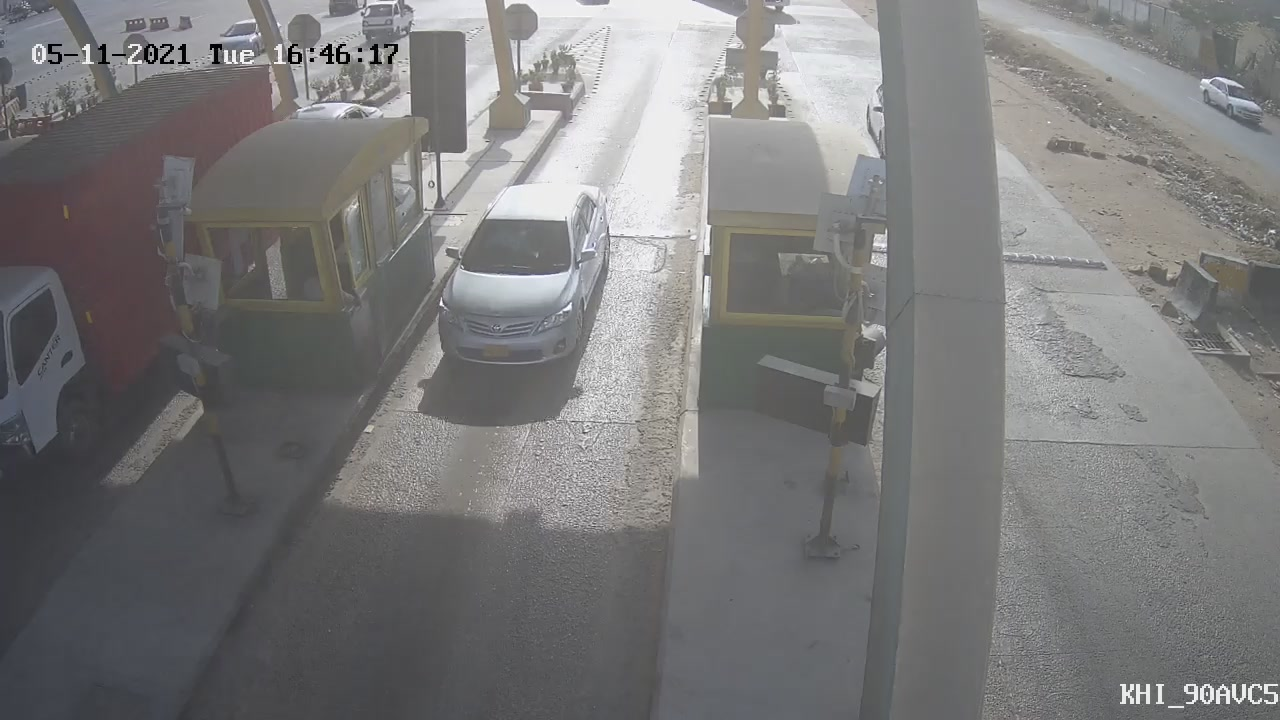F1: (413, 164, 635, 399)
